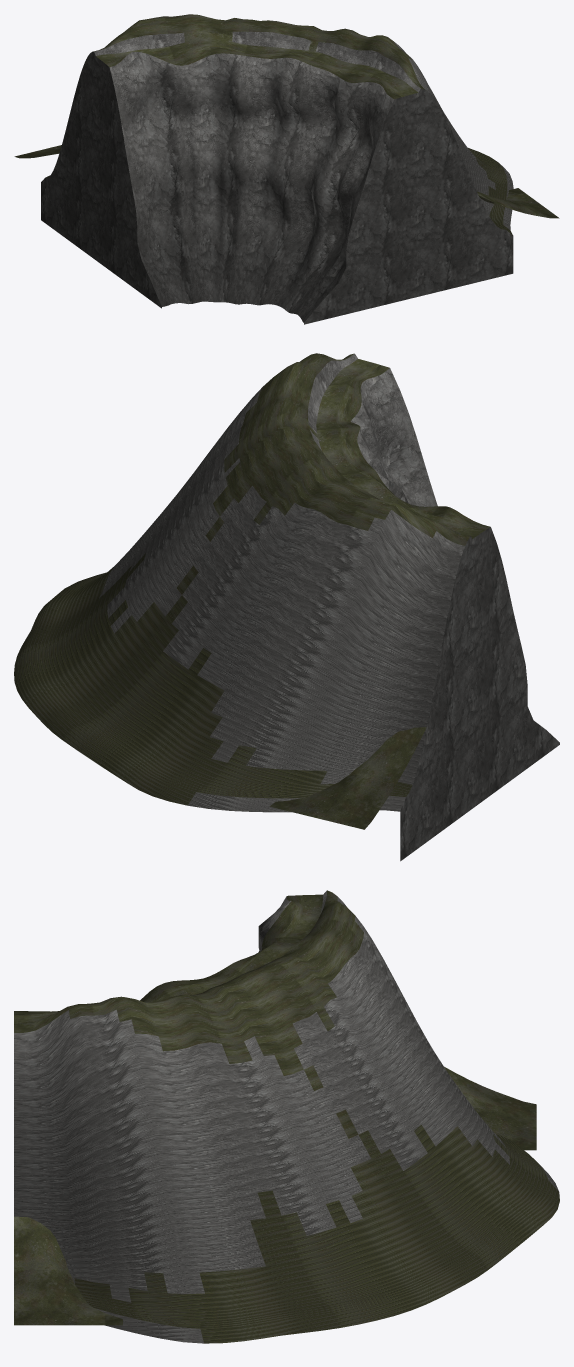
File: seacliff_inner_h5_v5_summer.glb
The picture shows the model from 3 angles, top to bottom: view 1: azimuth 30°, elevation 25°; view 2: azimuth 150°, elevation 25°; view 3: azimuth 270°, elevation 25°; orthographic projection. The views are drawn at different scales.
Parts seen in each view (by area): view 1: seacliff_inner_h5; view 2: seacliff_inner_h5; view 3: seacliff_inner_h5.
Boxes of the visible parts, x1,y1,x2,y2 form: seacliff_inner_h5: [14, 14, 559, 324]; seacliff_inner_h5: [14, 353, 559, 861]; seacliff_inner_h5: [14, 890, 559, 1343].
Size of the model in its own units: 12.05 by 7.29 by 12.01.
Materials: 2 (2 with a texture image).
